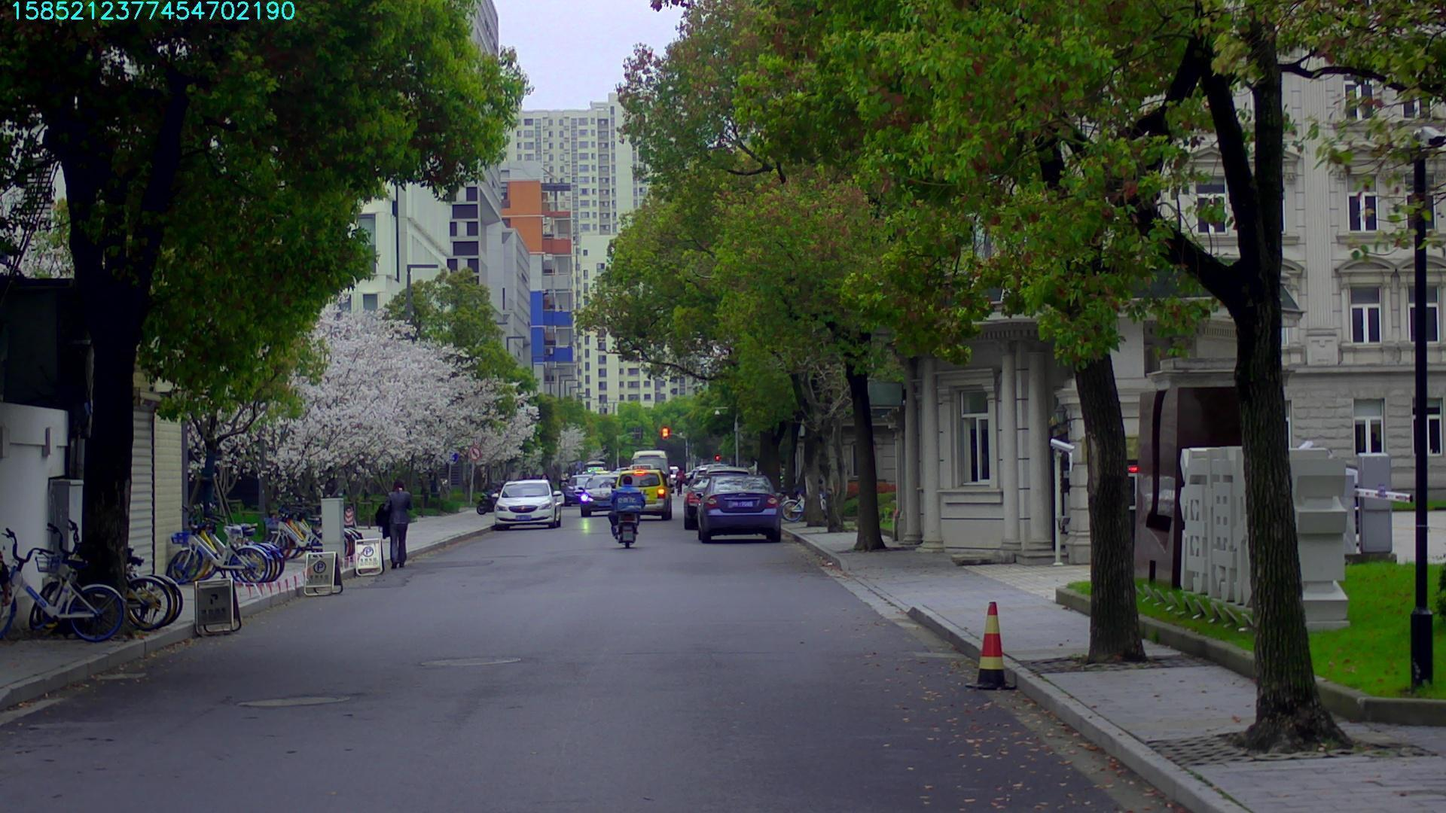red: (660, 427, 669, 437)
